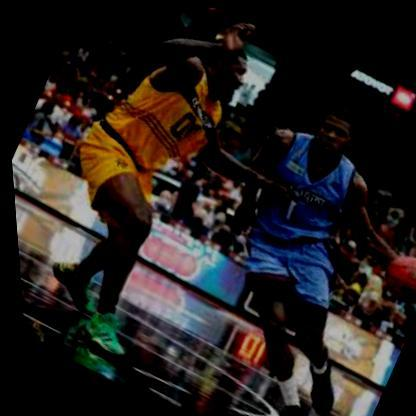basketball: (371, 242, 416, 305)
